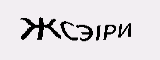Г: (90, 23, 103, 44)
Е: (54, 27, 68, 45)
К: (68, 22, 88, 44)
Р: (109, 23, 125, 46)
Х: (43, 25, 57, 47)
